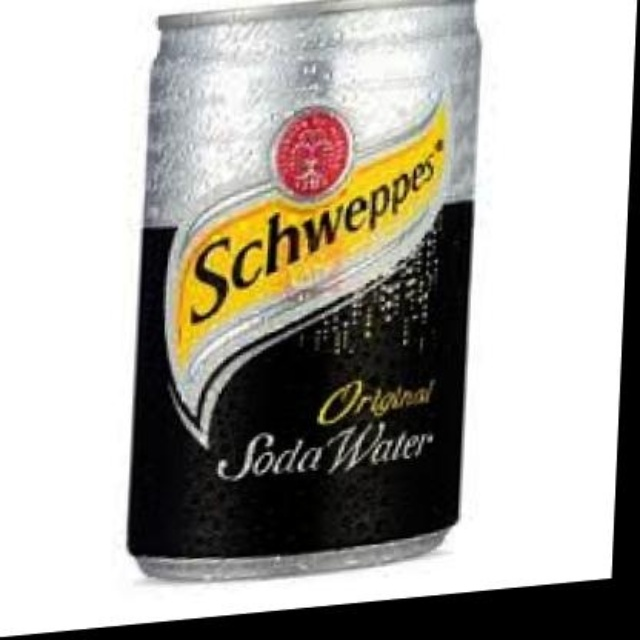trash: (129, 0, 477, 578)
